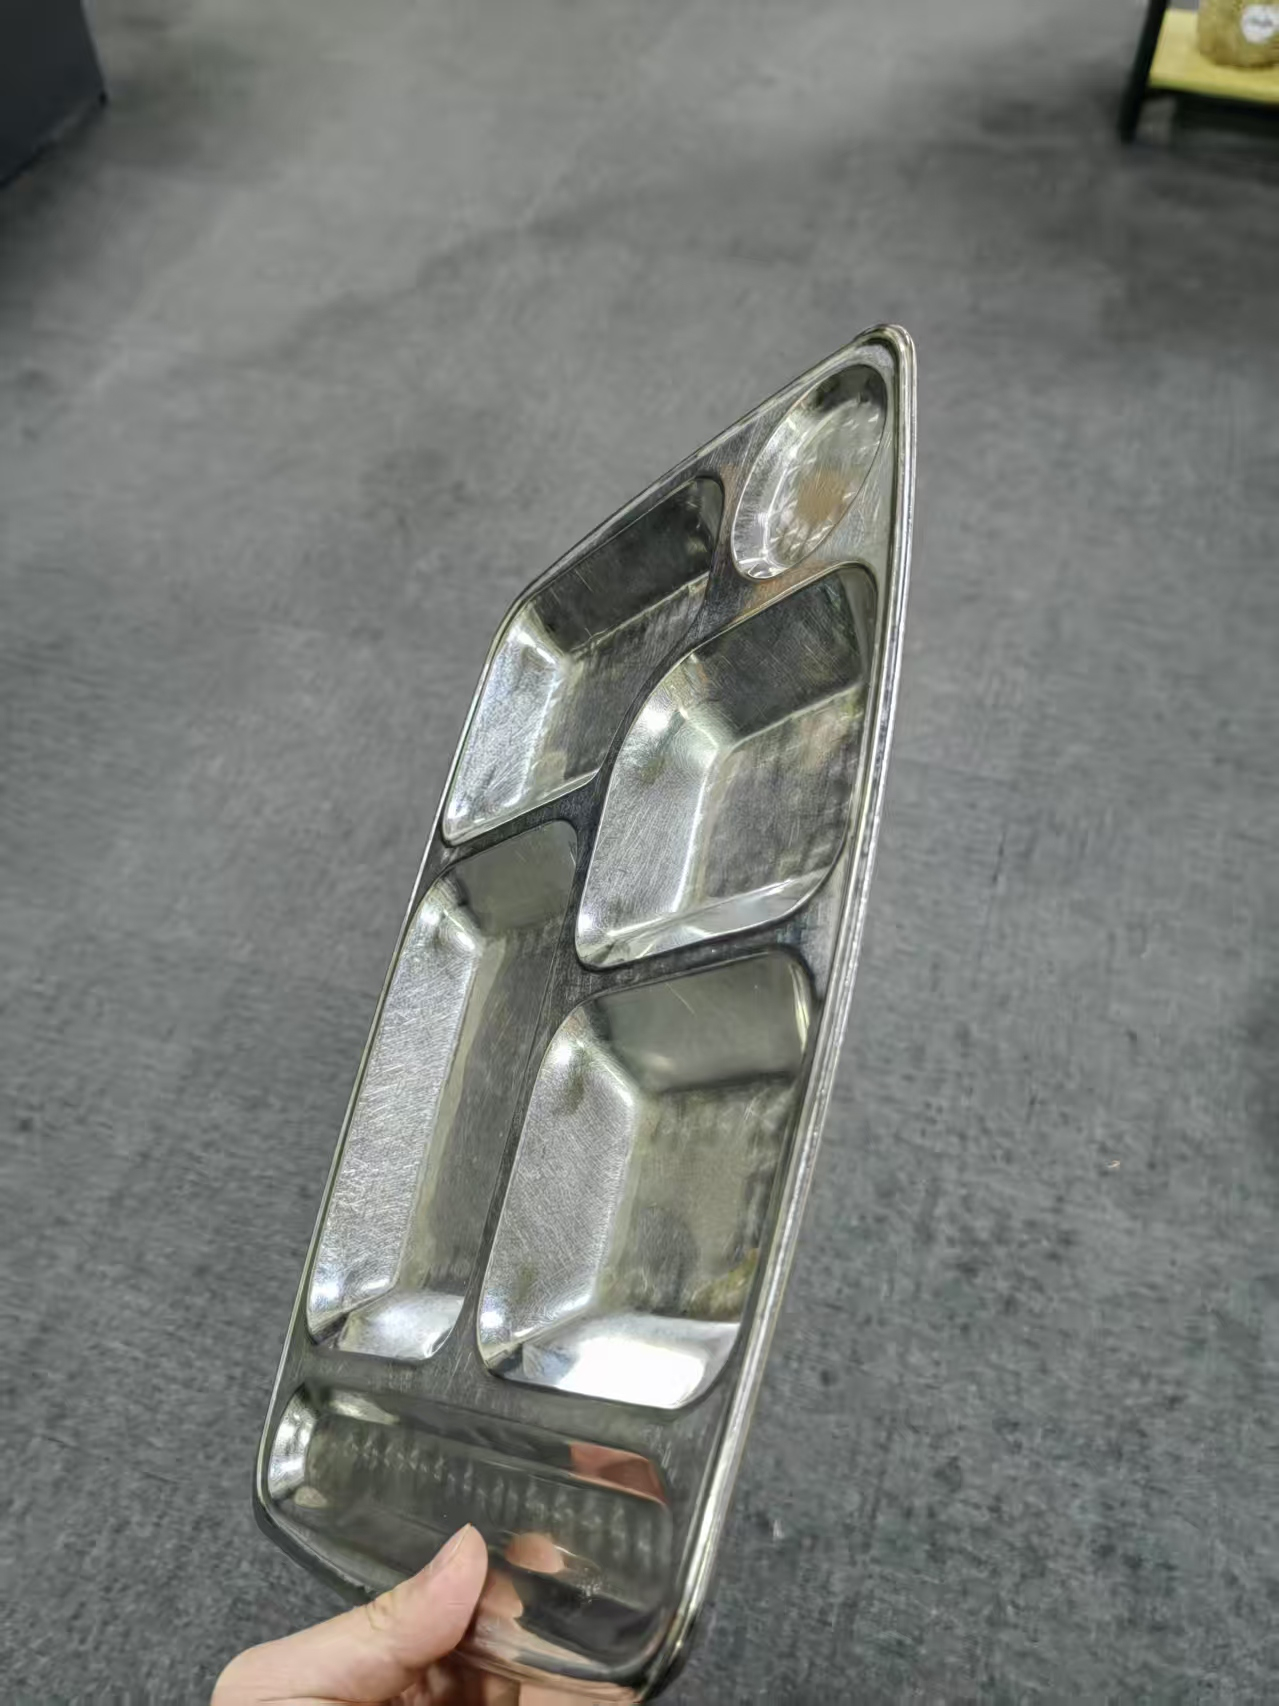plate: (246, 316, 921, 1698)
